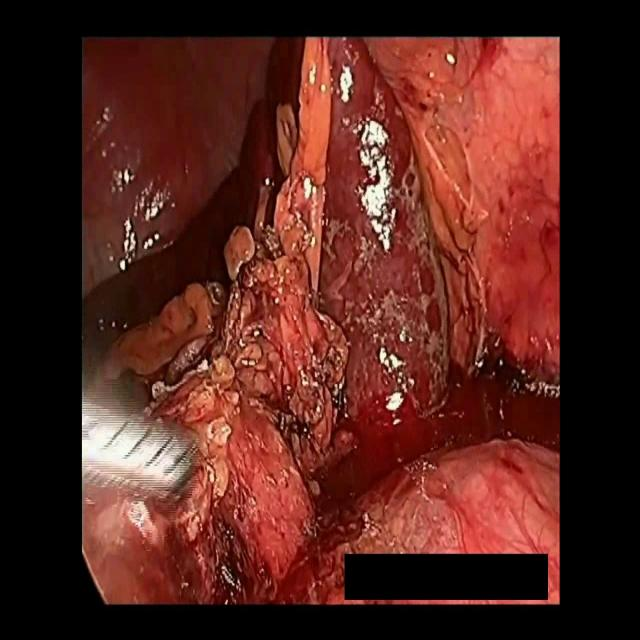surgical-area: (82, 36, 560, 604)
surgical-tool: (82, 394, 206, 504)
